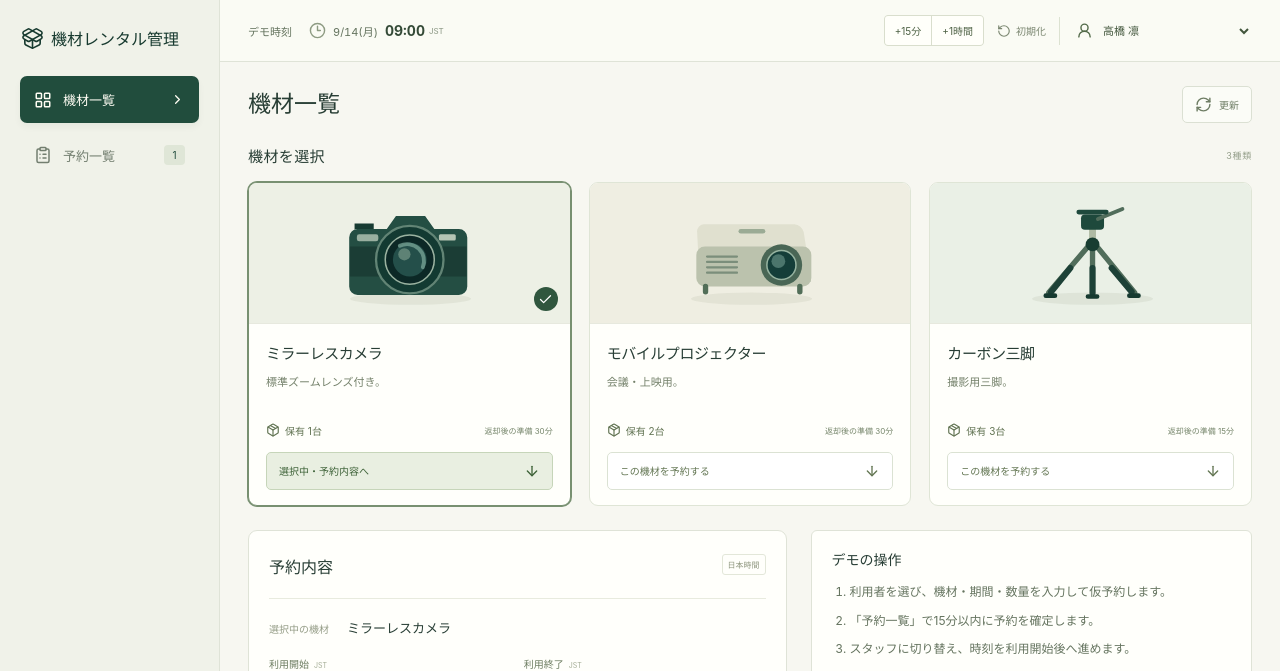
Scenario: 貸出デスクの画面 › 初期化の確認を閉じた場合は保存内容を消さず、確認後に初期化する
Expected: the heading "機材一覧" is shown, [248,88,340,121]
Click the button "初期化".
click(1022, 30)  # box [994,16,1049,45]
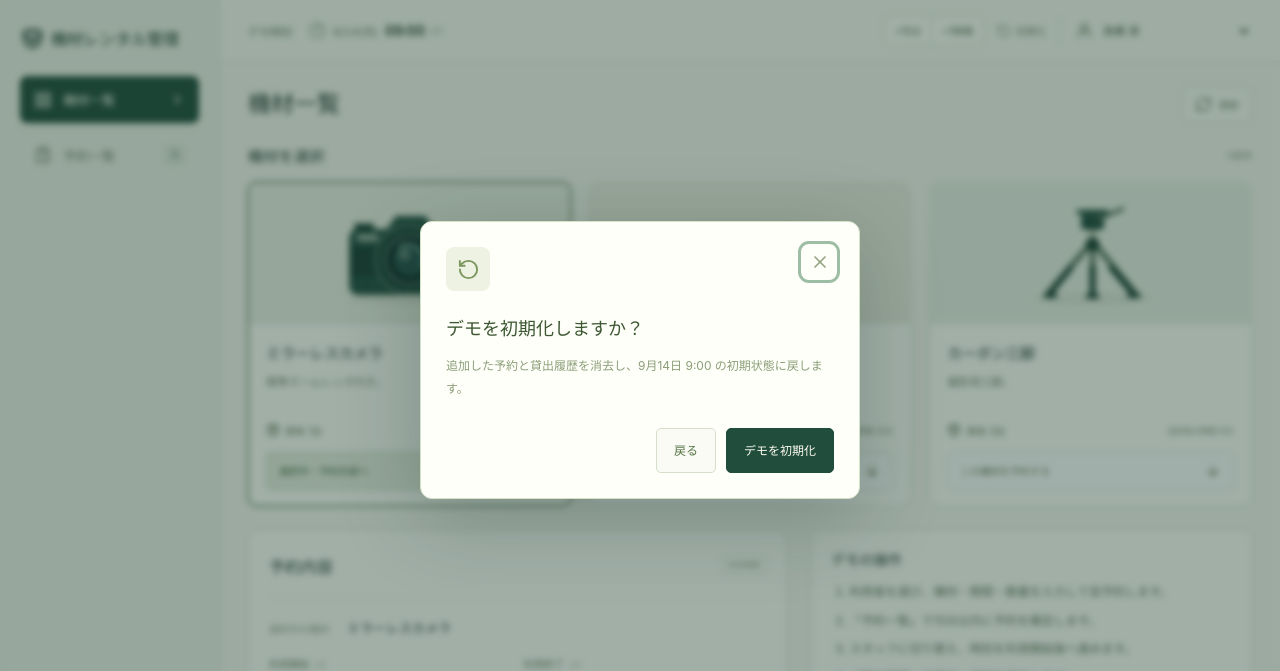
Expected: the dialog is shown, [420,221,860,499]
Click the button "戻る".
click(686, 450)  # box [656,428,716,473]
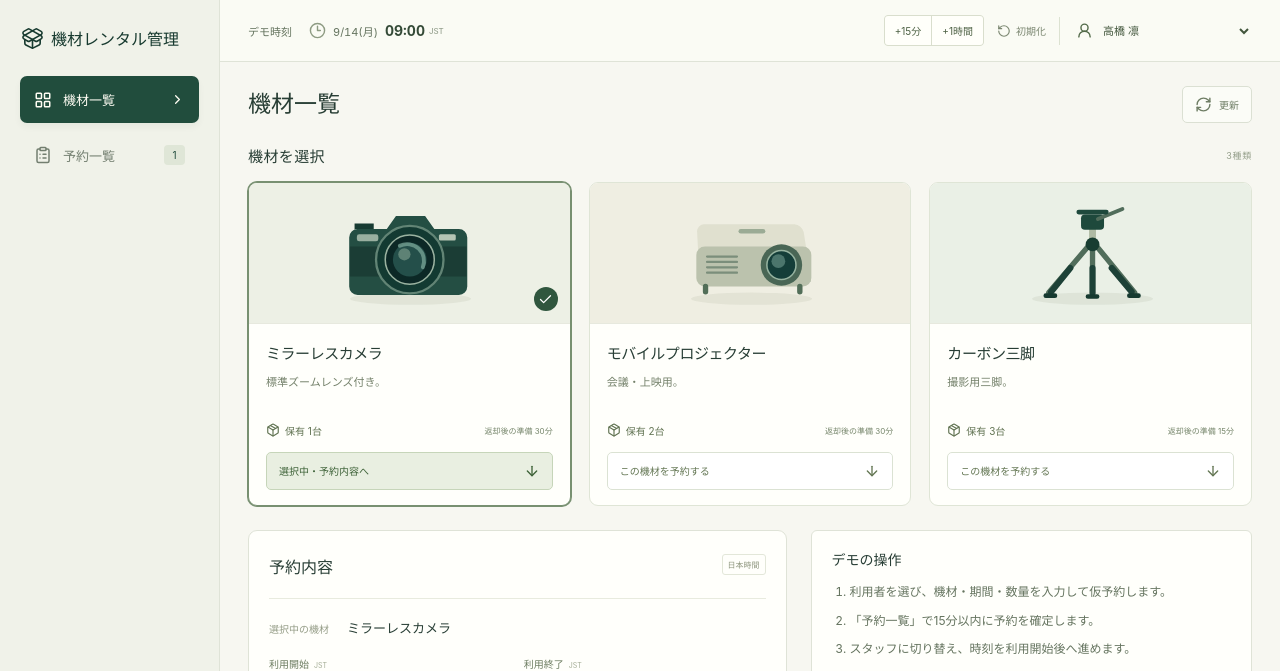
Expected: the dialog is gone
Click the button "初期化".
click(1022, 30)  # box [994,16,1049,45]
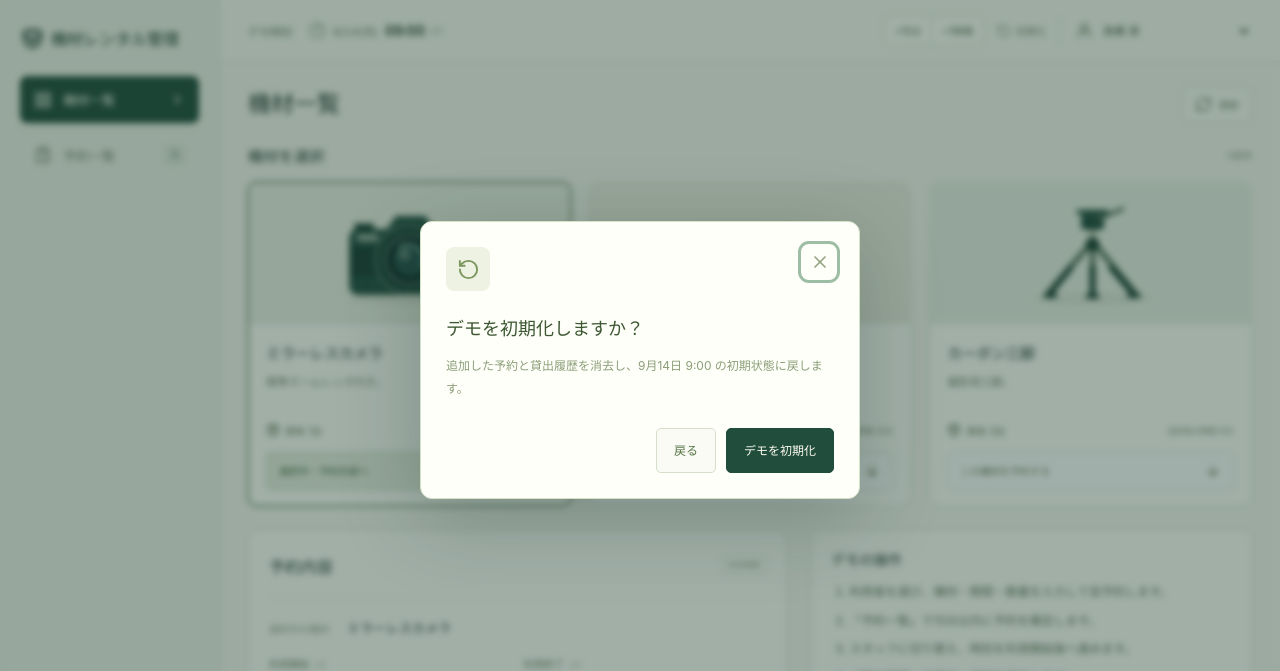
Click the button "デモを初期化".
click(780, 450)  # box [726,428,834,473]
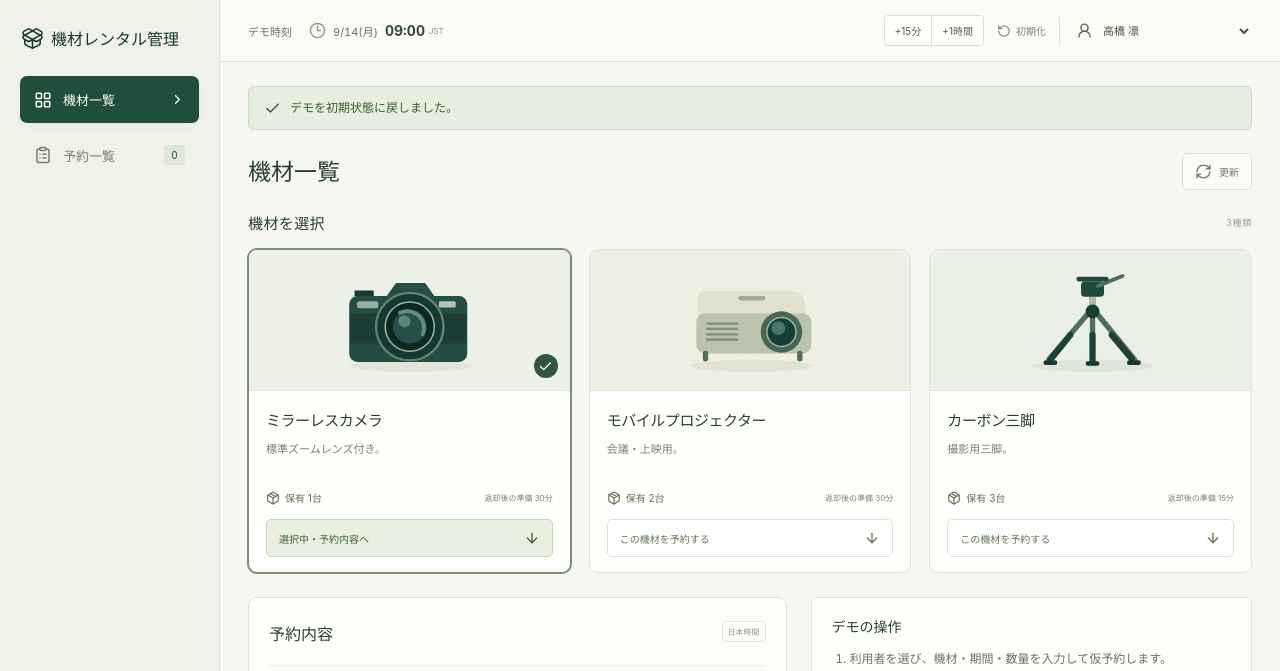
Expected: the dialog is gone
Expected: the text "デモを初期状態に戻しました。" is shown, [290,98,458,118]
